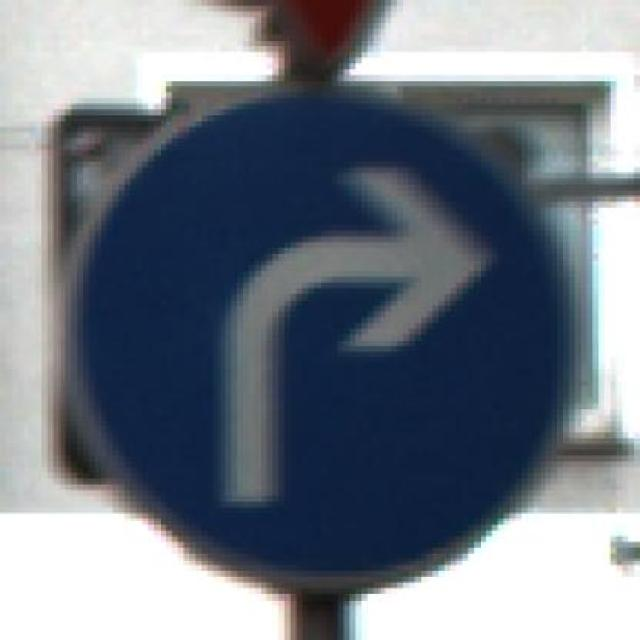Turn right ahead: (53, 69, 599, 600)
